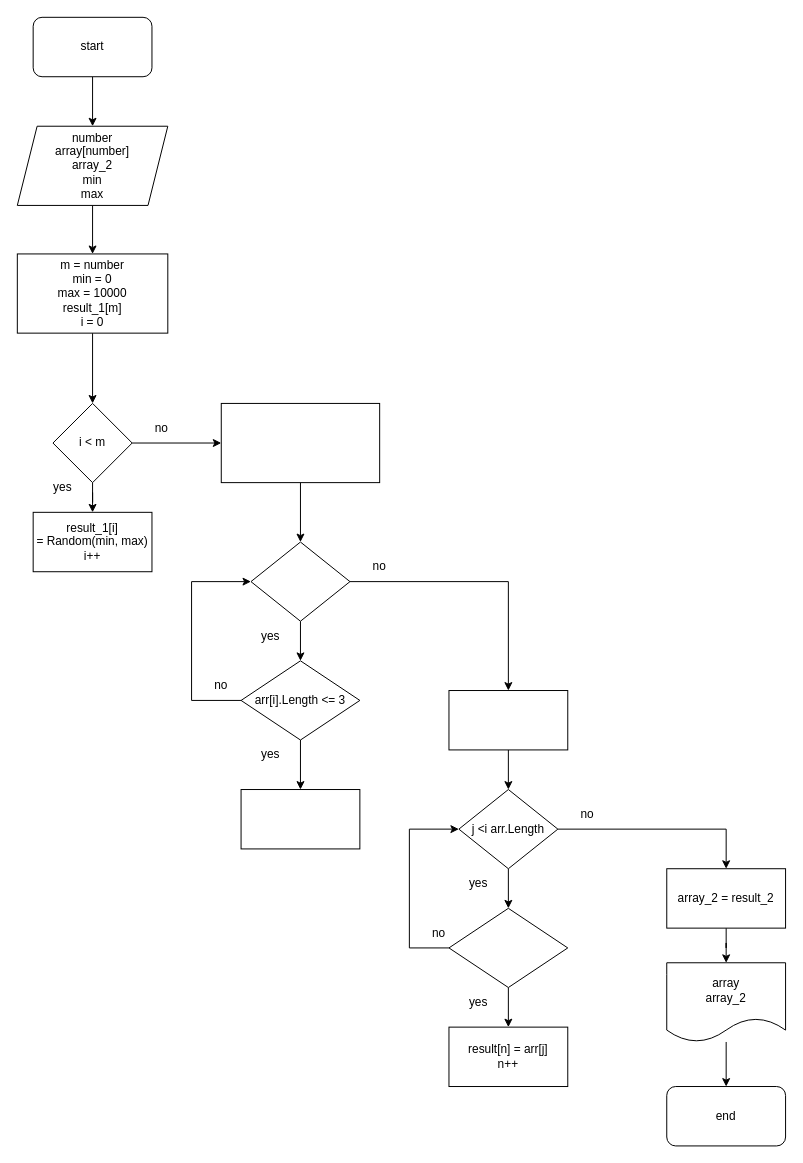
Some shapes in this 803 by 1163 pixel diagram are drawn without their labels. Each missing label, with the box of its shape:
arr[j].Length <= 3: (448, 907, 568, 988)
array = result_1 arr = array n = 0 k = 0 i = 0: (220, 402, 380, 483)
i < arr.Length: (250, 541, 350, 621)
k++: (240, 789, 360, 849)
result_2[k] j = 0: (448, 690, 568, 750)
